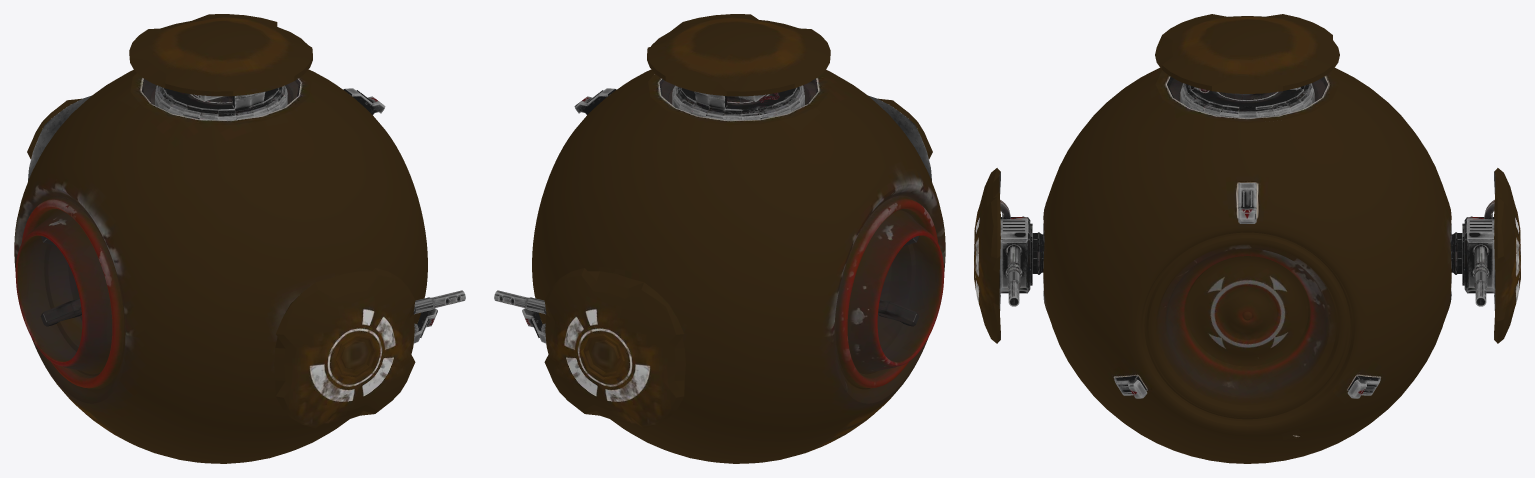
File: scifi_drone.glb
3 renders of one model, left to right at view 1: azimuth 30°, elevation 25°; view 2: azimuth 150°, elevation 25°; view 3: azimuth 270°, elevation 25°, orthographic.
Visible parts, largest first — view 1: Drone.Weapon1_M1Robot_0, Drone.Head, Drone.Weapon1_M2Robot_0; view 2: Drone.Weapon1_M1Robot_0, Drone.Head, Drone.Weapon1_M2Robot_0; view 3: Drone.Weapon1_M1Robot_0, Drone.Head, Drone.Weapon1_M2Robot_0.
Part boxes in pixels (left/top/right/bottom): Drone.Weapon1_M1Robot_0: left=14, top=69, right=427, bottom=463; Drone.Head: left=129, top=14, right=312, bottom=120; Drone.Weapon1_M2Robot_0: left=28, top=78, right=465, bottom=343; Drone.Weapon1_M1Robot_0: left=532, top=69, right=945, bottom=463; Drone.Head: left=647, top=14, right=830, bottom=120; Drone.Weapon1_M2Robot_0: left=494, top=78, right=931, bottom=343; Drone.Weapon1_M1Robot_0: left=974, top=68, right=1520, bottom=463; Drone.Head: left=1155, top=14, right=1339, bottom=118; Drone.Weapon1_M2Robot_0: left=999, top=77, right=1495, bottom=398.
Bounding box in the file's own units: 1.44 × 1.69 × 2.04.
Materials: 2 (2 with a texture image).
